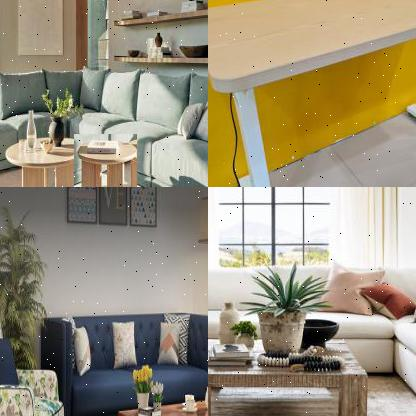table: (208, 0, 415, 186), (208, 335, 373, 415), (11, 122, 85, 186), (74, 134, 139, 186)
